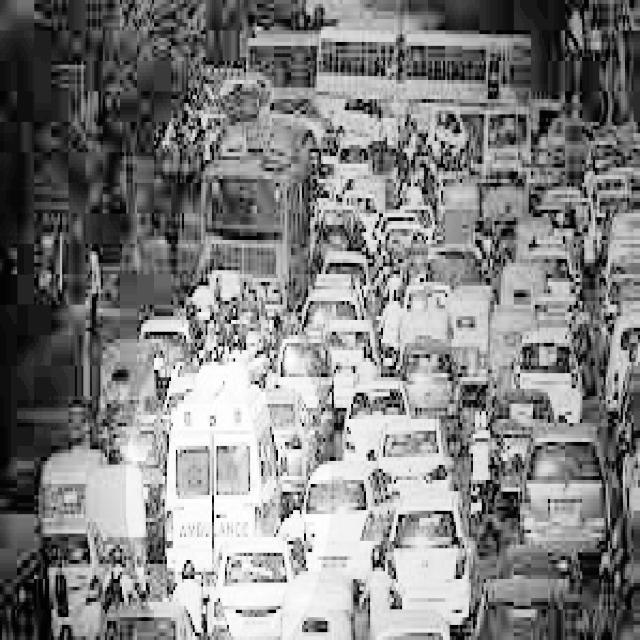Ambulance: (169, 362, 270, 545)
